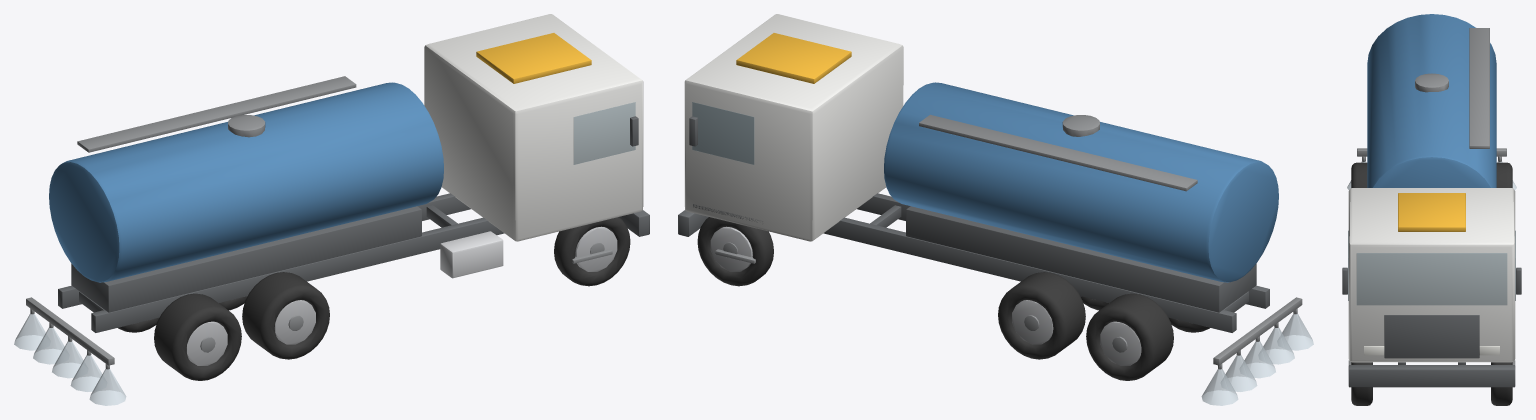
The model's file is EQP-TER-007_lod1.glb.
The picture shows the model from 3 angles, left to right: view 1: azimuth 30°, elevation 25°; view 2: azimuth 150°, elevation 25°; view 3: azimuth 270°, elevation 25°; orthographic projection. The views are drawn at different scales.
Visible parts, largest first — view 1: EQP-TER-007_tanque, EQP-TER-007_cab, EQP-TER-007_berco, EQP-TER-007_chassi_e, EQP-TER-007_roda4_pneu, EQP-TER-007_roda2_pneu, EQP-TER-007_passarela, EQP-TER-007_luzes, EQP-TER-007_janela-1, EQP-TER-007_roda0_pneu, EQP-TER-007_tanque_comb, EQP-TER-007_roda2_aro (+10 smaller); view 2: EQP-TER-007_tanque, EQP-TER-007_cab, EQP-TER-007_berco, EQP-TER-007_chassi_d, EQP-TER-007_roda5_pneu, EQP-TER-007_roda3_pneu, EQP-TER-007_passarela, EQP-TER-007_luzes, EQP-TER-007_janela1, EQP-TER-007_roda1_pneu, EQP-TER-007_roda3_aro, EQP-TER-007_roda5_aro (+9 smaller); view 3: EQP-TER-007_cab, EQP-TER-007_tanque, EQP-TER-007_parabrisa, EQP-TER-007_grade, EQP-TER-007_parachoque, EQP-TER-007_luzes, EQP-TER-007_passarela, EQP-TER-007_boca, EQP-TER-007_roda0_pneu, EQP-TER-007_roda1_pneu, EQP-TER-007_roda4_pneu, EQP-TER-007_roda5_pneu (+3 smaller).
Boxes of the visible parts, box(x1,y1,x2,y2) form: EQP-TER-007_tanque: box(49, 82, 443, 282); EQP-TER-007_cab: box(424, 14, 643, 241); EQP-TER-007_berco: box(71, 206, 421, 312); EQP-TER-007_chassi_e: box(91, 217, 504, 332); EQP-TER-007_roda4_pneu: box(154, 293, 241, 380); EQP-TER-007_roda2_pneu: box(242, 272, 329, 359); EQP-TER-007_passarela: box(77, 76, 356, 152); EQP-TER-007_luzes: box(476, 33, 591, 83); EQP-TER-007_janela-1: box(573, 102, 635, 164); EQP-TER-007_roda0_pneu: box(554, 217, 630, 286); EQP-TER-007_tanque_comb: box(440, 231, 503, 278); EQP-TER-007_roda2_aro: box(274, 300, 315, 344); EQP-TER-007_tanque: box(884, 82, 1278, 282); EQP-TER-007_cab: box(684, 14, 903, 241); EQP-TER-007_berco: box(906, 206, 1256, 312); EQP-TER-007_chassi_d: box(823, 217, 1236, 332); EQP-TER-007_roda5_pneu: box(1086, 293, 1173, 380); EQP-TER-007_roda3_pneu: box(998, 272, 1085, 359); EQP-TER-007_passarela: box(919, 114, 1197, 191); EQP-TER-007_luzes: box(736, 33, 851, 83); EQP-TER-007_janela1: box(692, 102, 754, 164); EQP-TER-007_roda1_pneu: box(697, 217, 773, 286); EQP-TER-007_roda3_aro: box(1012, 300, 1053, 344); EQP-TER-007_roda5_aro: box(1100, 321, 1141, 365); EQP-TER-007_cab: box(1348, 188, 1515, 362); EQP-TER-007_tanque: box(1367, 14, 1496, 187); EQP-TER-007_parabrisa: box(1356, 253, 1507, 305); EQP-TER-007_grade: box(1384, 315, 1479, 358); EQP-TER-007_parachoque: box(1348, 365, 1515, 387); EQP-TER-007_luzes: box(1398, 193, 1465, 231); EQP-TER-007_passarela: box(1469, 28, 1489, 148); EQP-TER-007_boca: box(1415, 73, 1448, 92); EQP-TER-007_roda0_pneu: box(1351, 362, 1372, 405); EQP-TER-007_roda1_pneu: box(1491, 362, 1512, 405); EQP-TER-007_roda4_pneu: box(1351, 162, 1367, 187); EQP-TER-007_roda5_pneu: box(1496, 162, 1512, 187).
Size of the model in its own units: 8.42 by 3.03 by 2.63.
